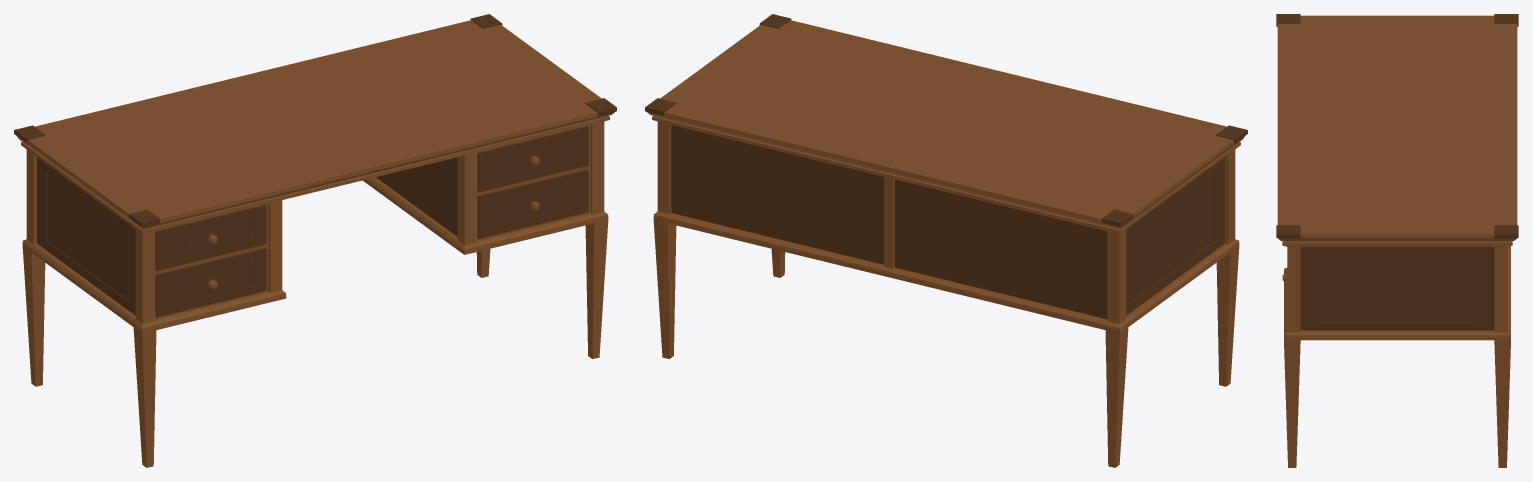
The model's file is Desk.glb.
3 views of the same model, side by side, from view 1: azimuth 30°, elevation 25°; view 2: azimuth 150°, elevation 25°; view 3: azimuth 270°, elevation 25° (orthographic). The views are drawn at different scales.
Visible parts, largest first — view 1: Desk, Desk_Drawer2, Desk_Drawer4, Desk_Drawer3, Desk_Drawer1; view 2: Desk; view 3: Desk.
Part boxes in pixels (x1=…): Desk: x1=14, y1=14, x2=616, y2=467; Desk_Drawer2: x1=477, y1=169, x2=588, y2=238; Desk_Drawer4: x1=155, y1=248, x2=266, y2=317; Desk_Drawer3: x1=155, y1=204, x2=266, y2=270; Desk_Drawer1: x1=477, y1=126, x2=588, y2=192; Desk: x1=645, y1=14, x2=1247, y2=467; Desk: x1=1276, y1=14, x2=1518, y2=467.
Size of the model in its own units: 182 by 92.25 by 84.66.
